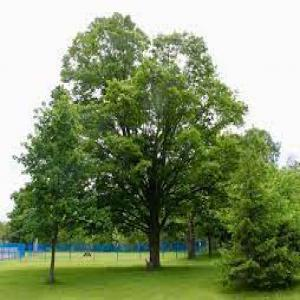Tree: (8, 9, 273, 270)
